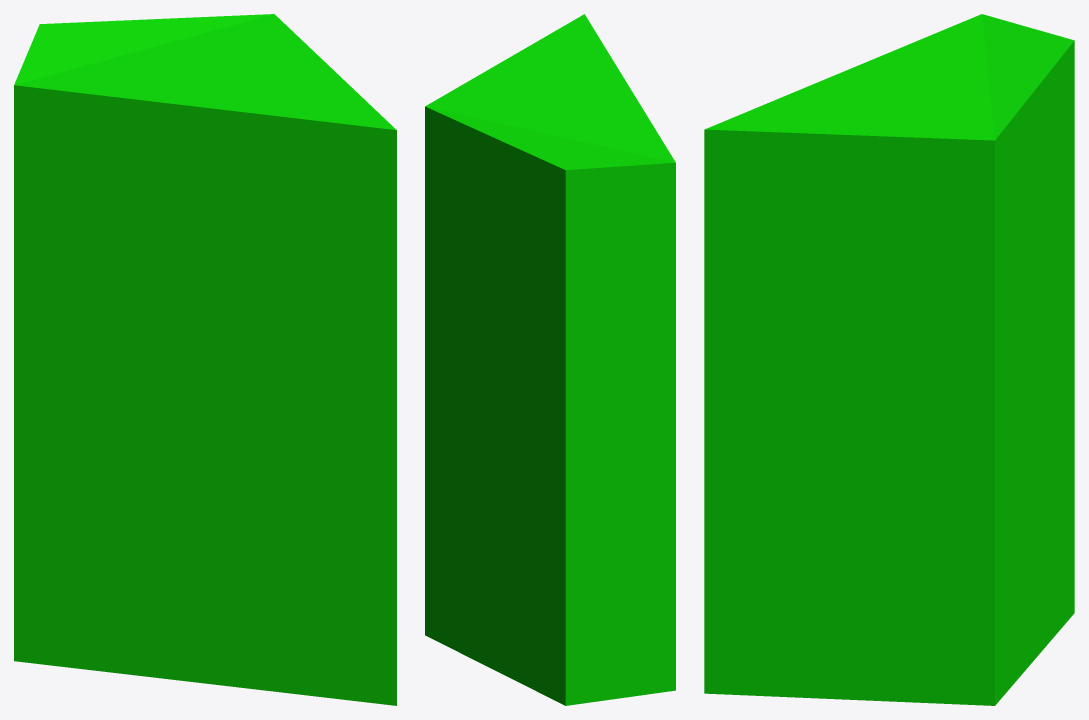
3 views of the same model, side by side, from view 1: azimuth 30°, elevation 25°; view 2: azimuth 150°, elevation 25°; view 3: azimuth 270°, elevation 25° (orthographic). The views are drawn at different scales.
Parts seen in each view (by area): view 1: Plane.007; view 2: Plane.007; view 3: Plane.007.
Part boxes in pixels (left/top/right/bottom): Plane.007: left=14, top=14, right=396, bottom=705; Plane.007: left=425, top=14, right=675, bottom=705; Plane.007: left=704, top=14, right=1074, bottom=705.
Size of the model in its own units: 432 by 902 by 529.
